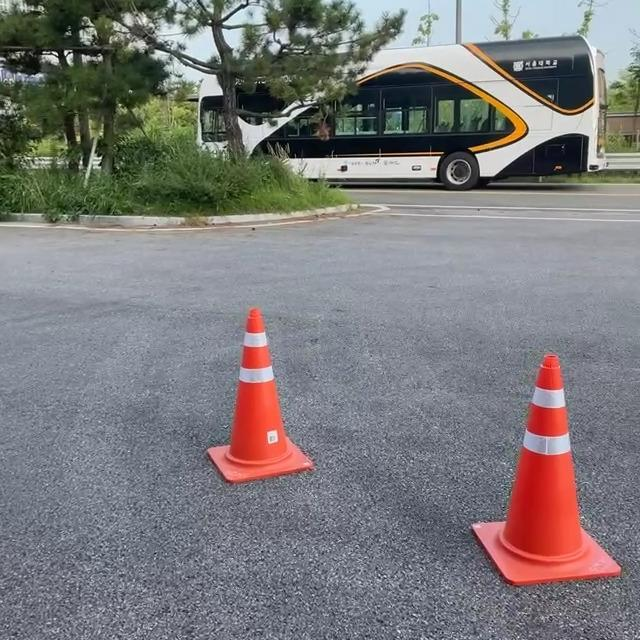fallen_object: (430, 349, 637, 589), (203, 292, 331, 544)
